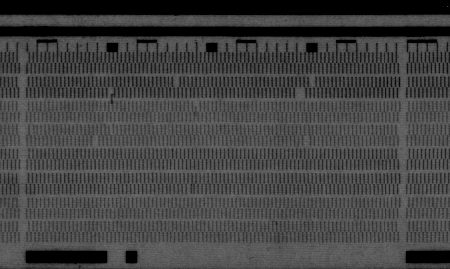Broken hole: (293, 88, 308, 100), (90, 135, 102, 148), (171, 75, 183, 87), (301, 135, 312, 147), (308, 74, 317, 88)
Oblique printing: (184, 182, 198, 196), (106, 86, 116, 103), (190, 100, 201, 115)
